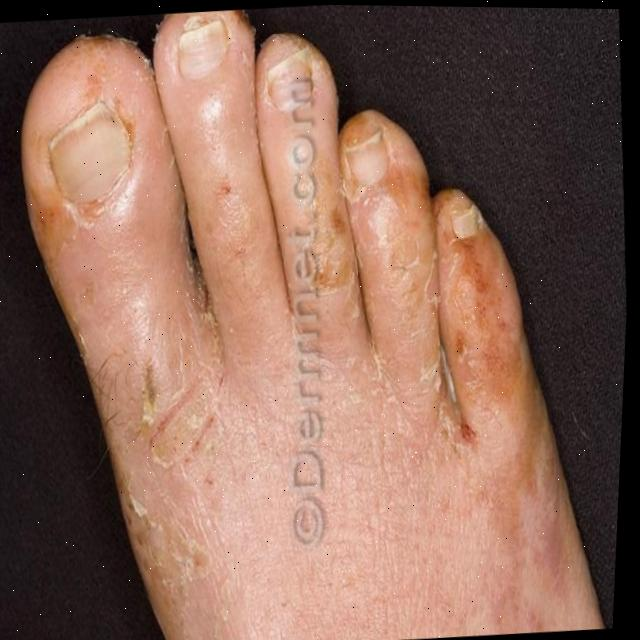Eczema: (17, 103, 534, 621)
